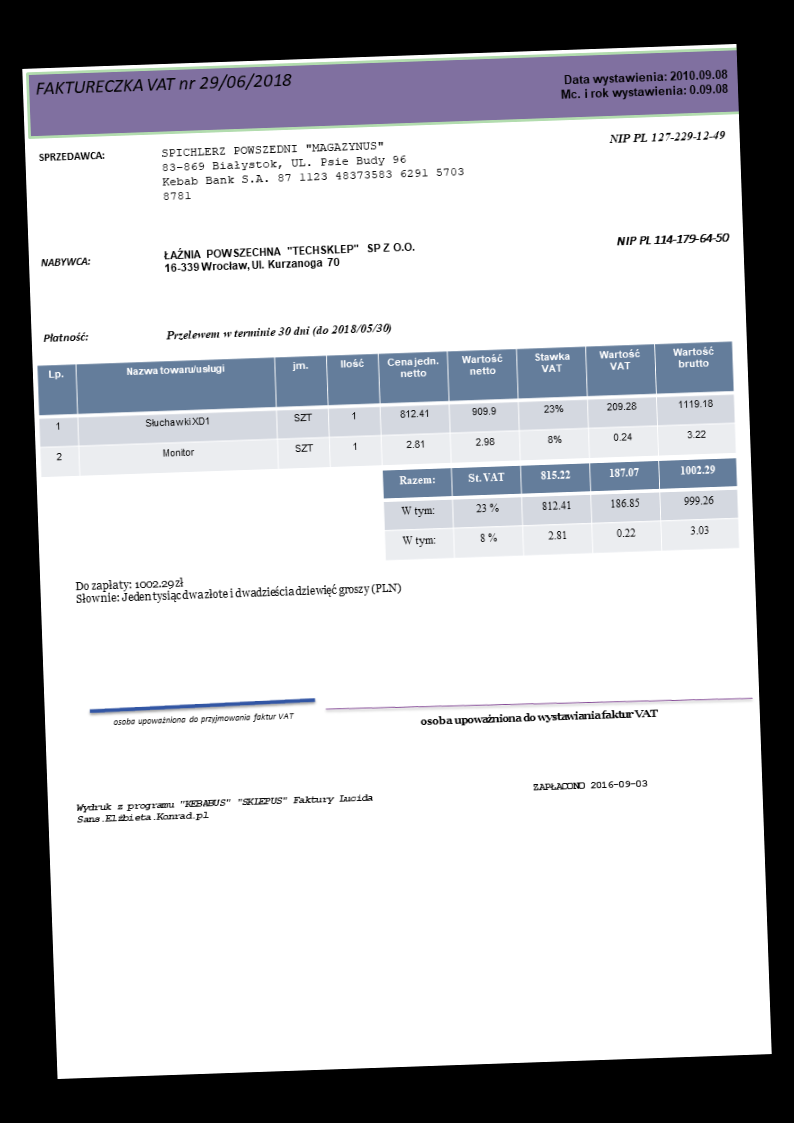Table: (34, 339, 738, 479), (381, 456, 741, 561)
TextBox: (159, 135, 467, 203), (73, 567, 403, 607), (74, 790, 375, 825), (162, 237, 416, 275), (33, 69, 294, 99), (557, 66, 730, 102), (418, 704, 660, 729), (163, 320, 395, 345), (110, 710, 295, 729), (607, 127, 727, 147), (614, 231, 733, 248), (531, 777, 649, 794), (36, 148, 107, 164), (37, 254, 94, 269), (41, 329, 90, 345)
